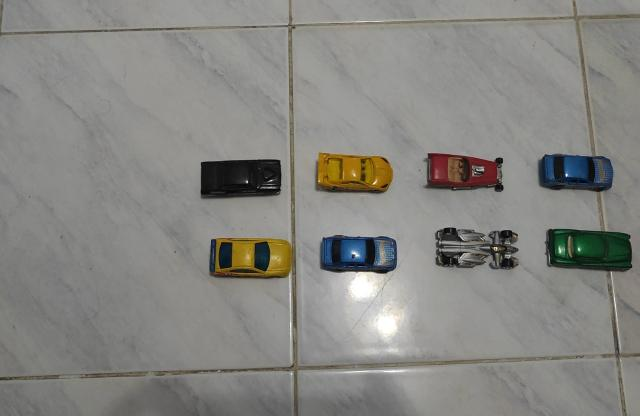01_FORD: (199, 159, 283, 201)
02_OZSOME: (209, 237, 293, 280)
03_V8: (424, 152, 506, 193)
04_MERZEDES: (319, 235, 399, 276), (537, 154, 615, 194)
05_DC121: (435, 227, 521, 272)
06_MASERATI: (546, 230, 633, 273)
07_RHLTURBO: (316, 152, 395, 196)
